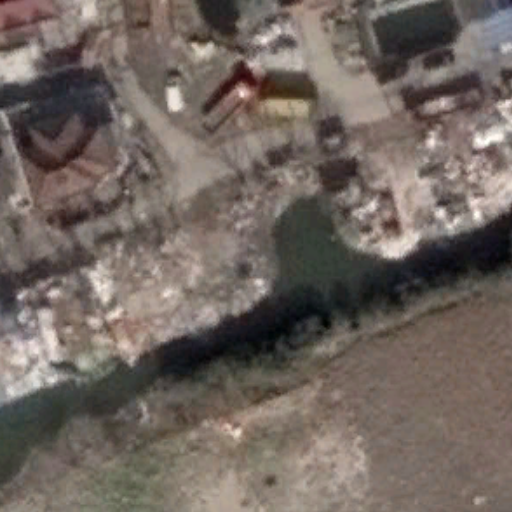msw: (6, 194, 264, 400), (329, 113, 512, 255)
